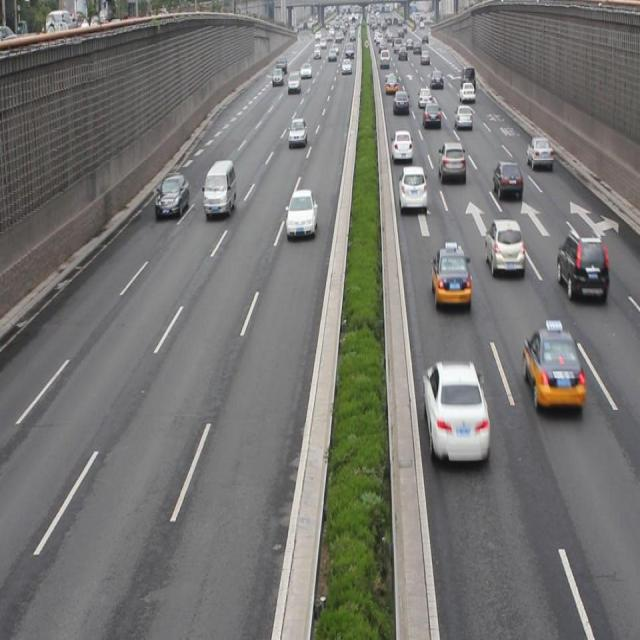car: (421, 358, 489, 465), (522, 327, 584, 410), (557, 228, 607, 298), (430, 245, 471, 310), (484, 217, 523, 277), (154, 173, 190, 218), (397, 164, 428, 214), (286, 188, 317, 238), (492, 158, 523, 201), (438, 140, 466, 181), (525, 132, 553, 170), (391, 128, 412, 162), (288, 116, 307, 147), (422, 100, 440, 128), (454, 102, 472, 130)
truck: (202, 159, 236, 218)
